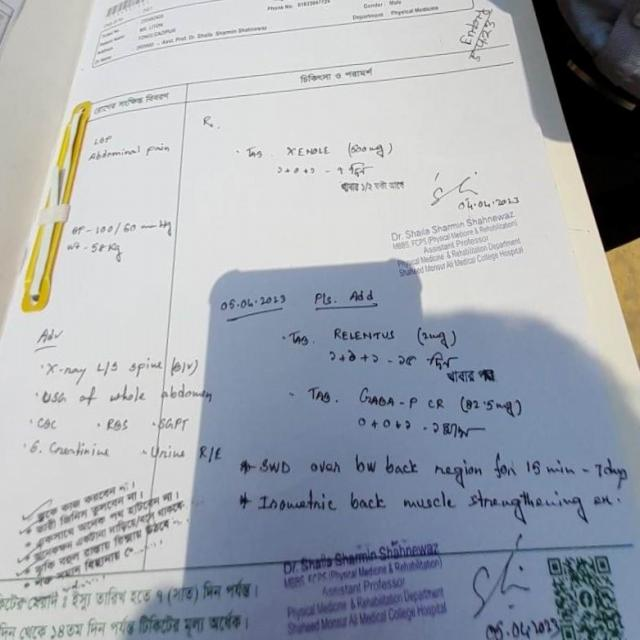Gaba-P CR: (355, 382, 449, 416)
Relentus: (329, 321, 398, 348)
Xenole: (280, 140, 338, 163)
